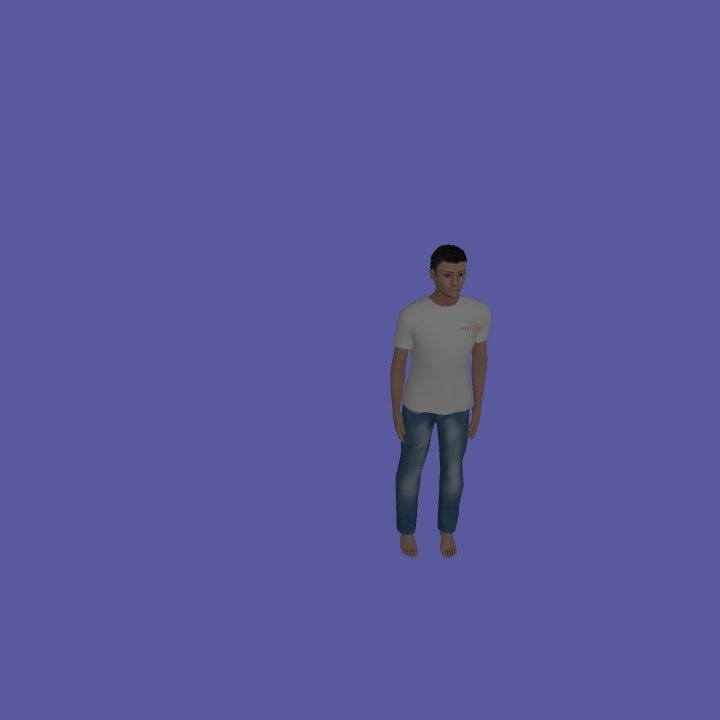victim: (385, 236, 497, 562)
